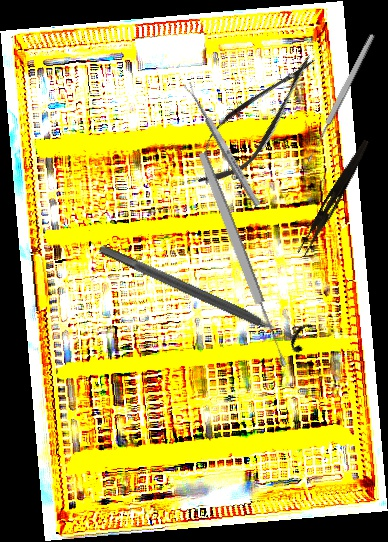Dressing Forceps: (297, 136, 371, 259)
Fixation Ring: (92, 232, 315, 357)
Micro Scissor: (179, 38, 333, 201)
Surgical Spoon: (196, 150, 290, 369), (183, 81, 262, 208), (304, 32, 377, 164)
